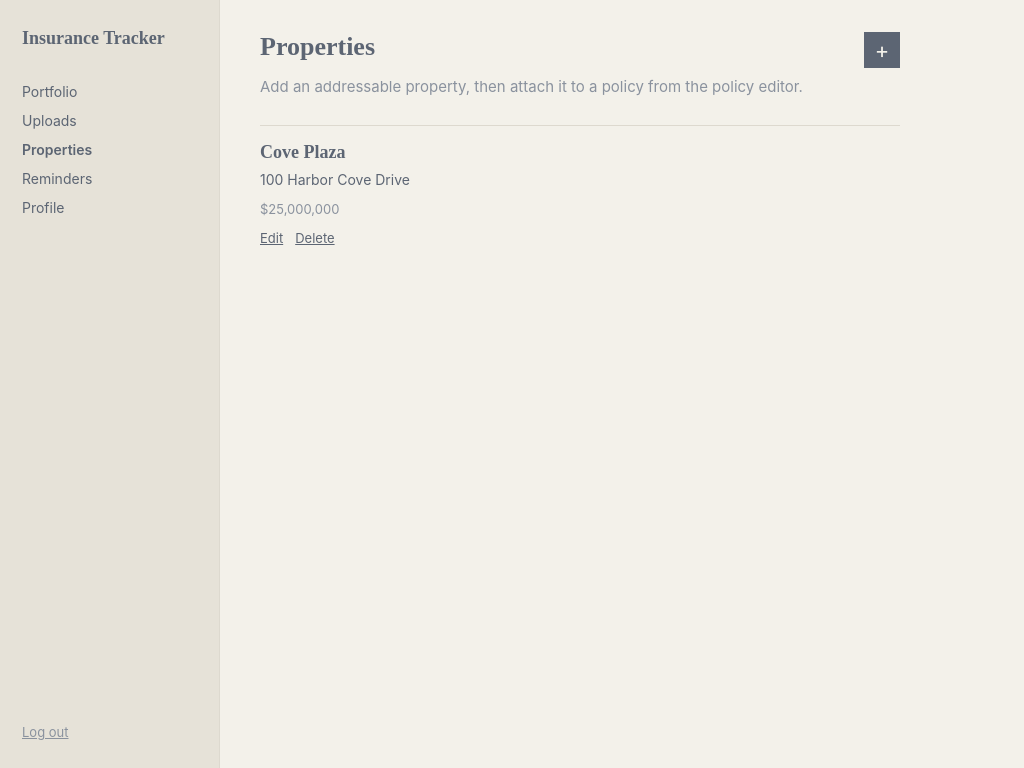
Test: portfolio management › deletes a property only after the second confirm click
Expected: the heading "Cove Plaza" is shown, [260,142,346,163]
Click the button with aria-label "delete cove plaza": (315, 238) [295,230,335,246]
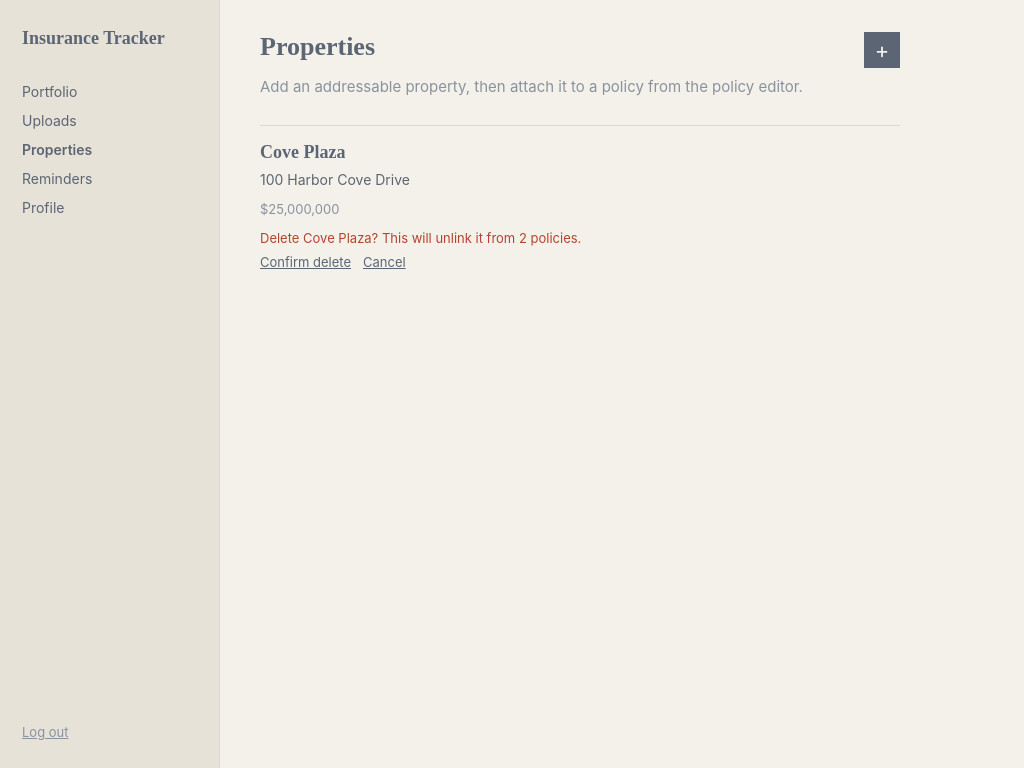
Expected: the text "Delete Cove Plaza? This will unlink it from 2 policies." is shown, [260,230,581,246]
Click the button with aria-label "confirm delete cove plaza": (306, 262) [260,254,351,270]
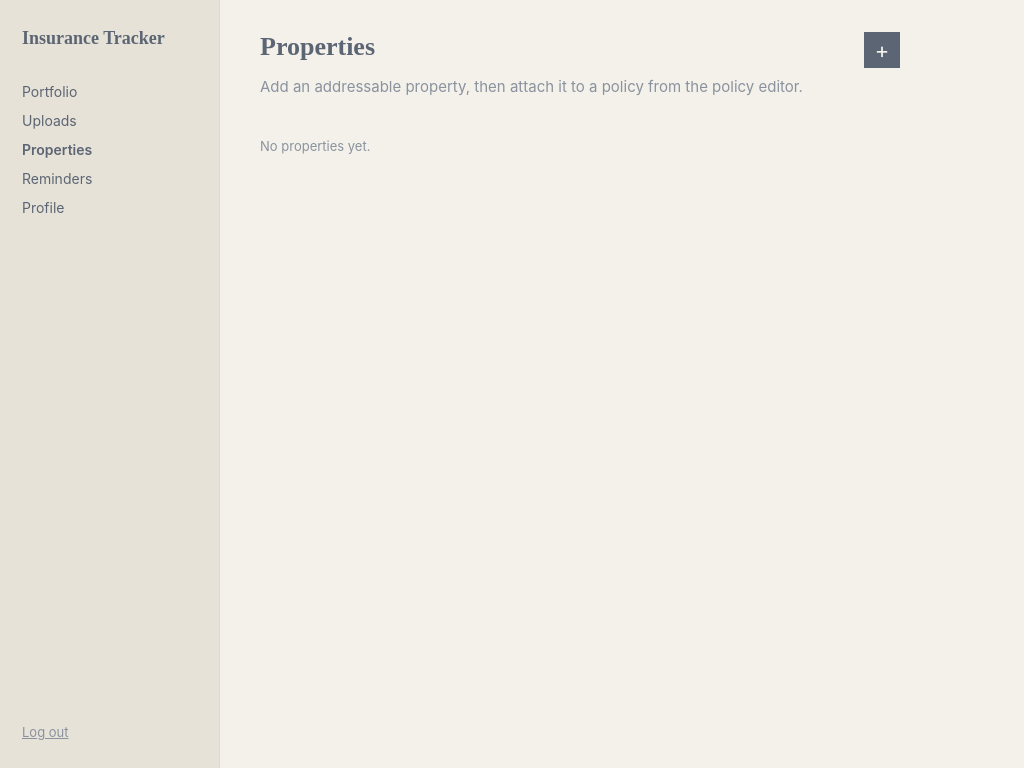
Expected: the heading "Cove Plaza" is gone
